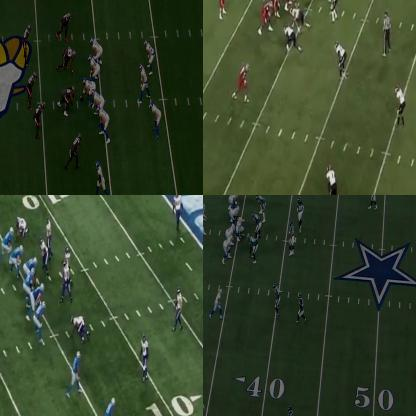CENTER: (80, 76, 93, 102), (24, 257, 38, 277), (236, 218, 245, 244), (284, 0, 297, 11)
DB: (173, 283, 183, 327), (397, 87, 407, 124), (326, 164, 337, 194), (140, 336, 148, 376), (174, 195, 183, 230), (298, 295, 306, 322), (370, 195, 379, 209), (287, 407, 294, 415)
LB: (33, 100, 44, 136), (26, 72, 37, 101), (23, 27, 31, 61), (338, 42, 346, 76), (288, 223, 295, 256), (327, 0, 338, 20), (44, 219, 53, 242), (274, 284, 280, 316), (298, 199, 304, 229), (64, 247, 73, 264)
QB: (140, 61, 151, 104), (203, 201, 206, 234)
SKILL: (236, 62, 251, 100), (70, 352, 82, 395), (96, 161, 110, 194), (36, 302, 46, 340), (152, 103, 162, 138), (212, 287, 223, 318), (144, 38, 154, 71), (103, 396, 118, 415), (221, 0, 230, 15)
